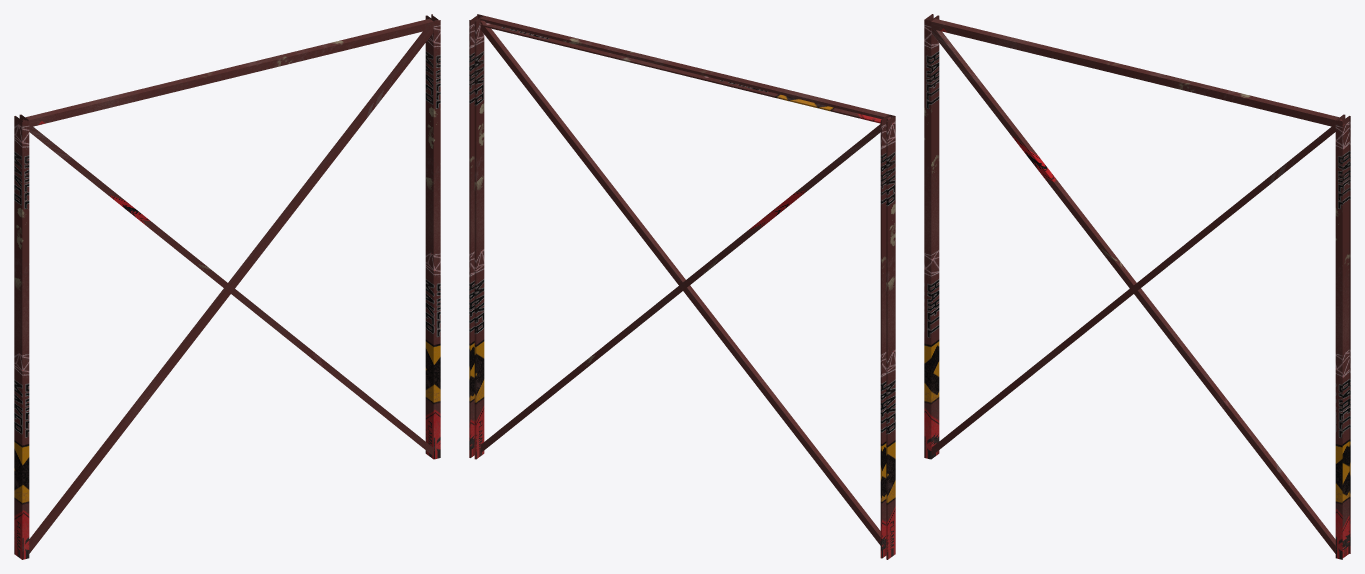
Rendered from CS_formwork_system_large_01.FBX.
3 views of the same model, side by side, from view 1: azimuth 30°, elevation 25°; view 2: azimuth 150°, elevation 25°; view 3: azimuth 330°, elevation 25° (orthographic).
Visible parts, largest first — view 1: SM_formwork_system_large_01; view 2: SM_formwork_system_large_01; view 3: SM_formwork_system_large_01.
Part boxes in pixels (<box>): SM_formwork_system_large_01: <box>14,14,440,559</box>; SM_formwork_system_large_01: <box>469,14,895,559</box>; SM_formwork_system_large_01: <box>924,14,1350,559</box>.
Size of the model in its own units: 600 by 20 by 600.
